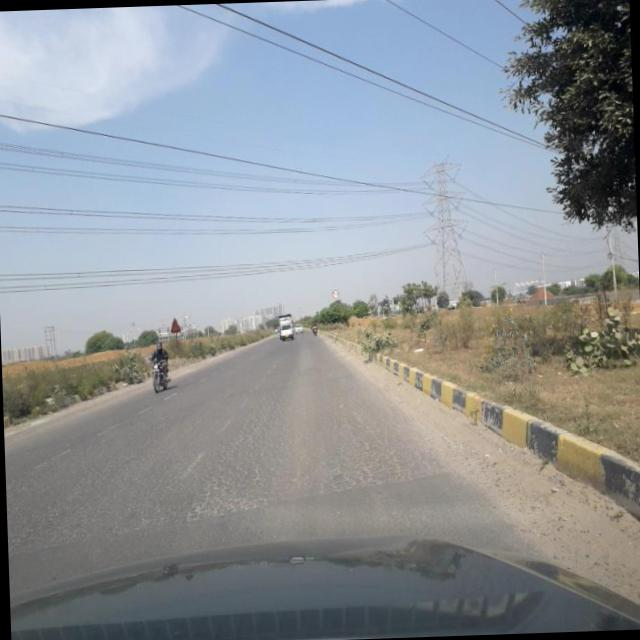crack: (158, 408, 408, 522)
